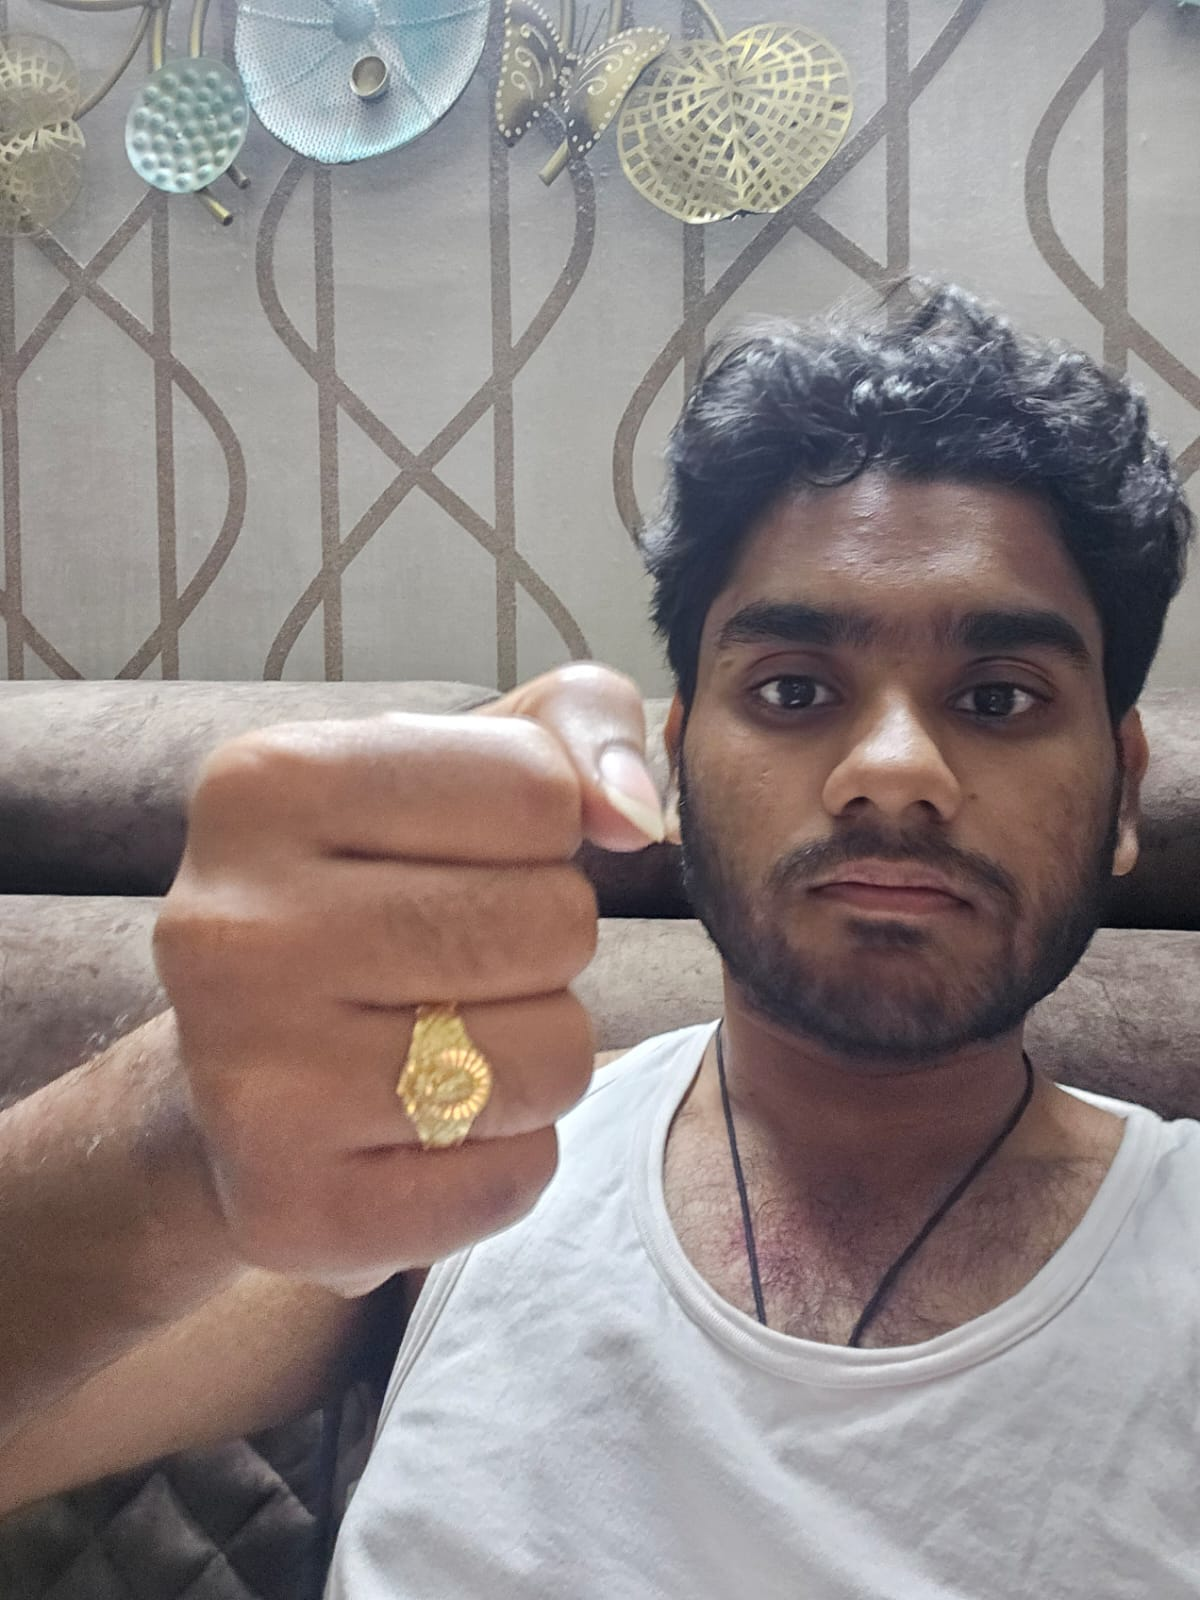yes: (153, 660, 671, 1294)
